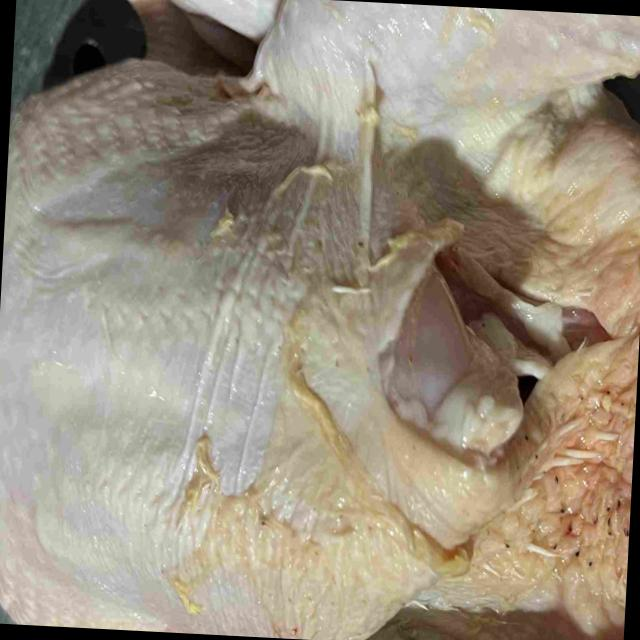breast: (0, 63, 518, 640)
leg: (251, 0, 640, 172)
wing: (125, 0, 213, 79), (182, 0, 290, 47)
